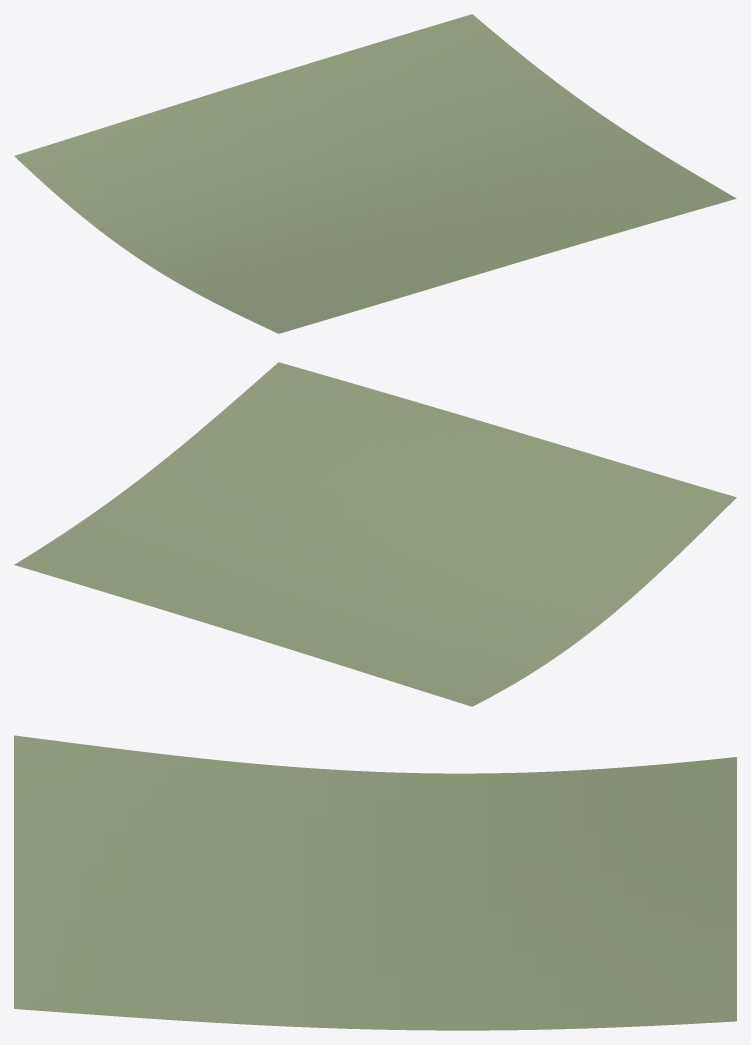
The model's file is desert-25-5.glb.
3 renders of one model, top to bottom at view 1: azimuth 30°, elevation 25°; view 2: azimuth 150°, elevation 25°; view 3: azimuth 270°, elevation 25°, orthographic. The views are drawn at different scales.
Visible parts, largest first — view 1: desert-25-5; view 2: desert-25-5; view 3: desert-25-5.
Part boxes in pixels (x1,y1,x2,y2): desert-25-5: [14, 14, 736, 333]; desert-25-5: [14, 362, 736, 706]; desert-25-5: [14, 735, 736, 1030].
Bounding box in the file's own units: 512 × 54.82 × 512.
